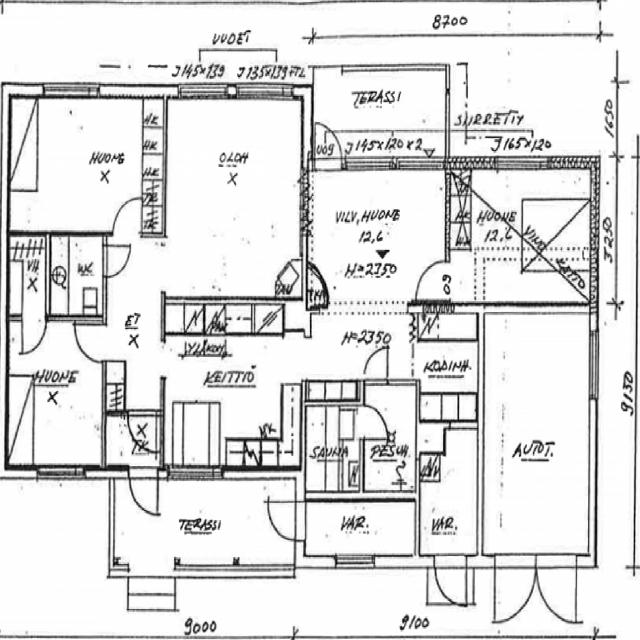door: (535, 556, 576, 622), (494, 556, 535, 622), (434, 556, 466, 610), (266, 501, 306, 540), (129, 465, 157, 515), (314, 120, 341, 169), (74, 324, 106, 361), (418, 262, 450, 299), (129, 410, 156, 453), (113, 194, 140, 237), (360, 406, 388, 438), (365, 349, 388, 386), (22, 316, 46, 351), (102, 245, 129, 276)
